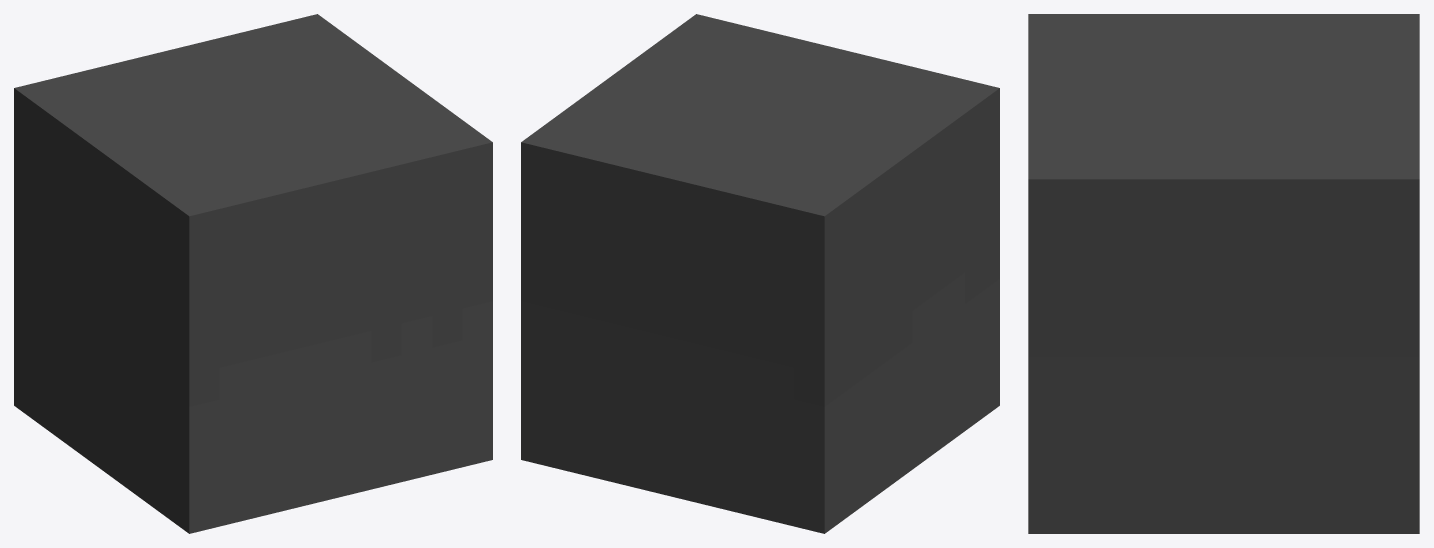
The model's file is Boden-mitte-00.obj.
3 renders of one model, left to right at view 1: azimuth 30°, elevation 25°; view 2: azimuth 150°, elevation 25°; view 3: azimuth 270°, elevation 25°, orthographic. The views are drawn at different scales.
Size of the model in its own units: 1 by 1 by 1.
1 material, 1 textured.
